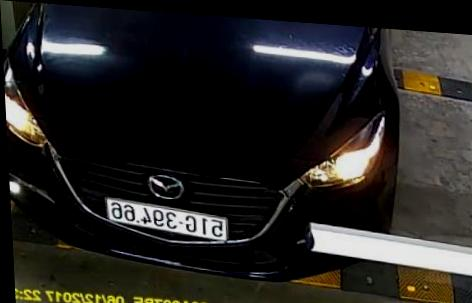License_Plate: (104, 193, 229, 246)
